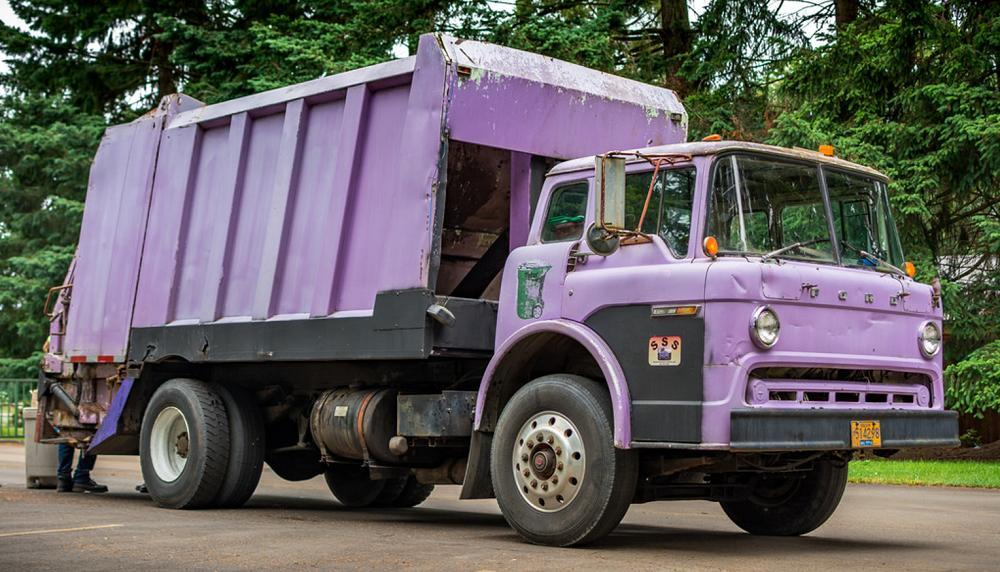truck: (49, 34, 989, 555)
